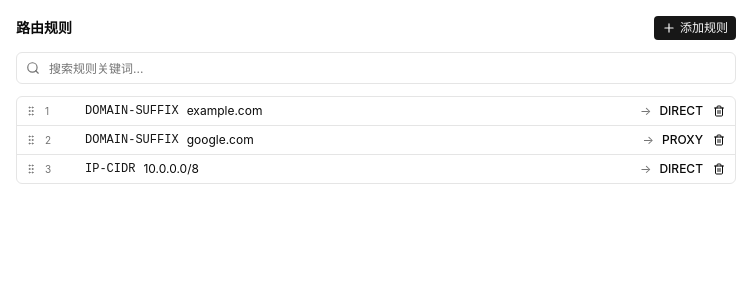
Test: RulesEditor component › should use the same divider frame for an expanded rule
Click the text "google.com".
click(220, 140)  # box [187,132,254,147]
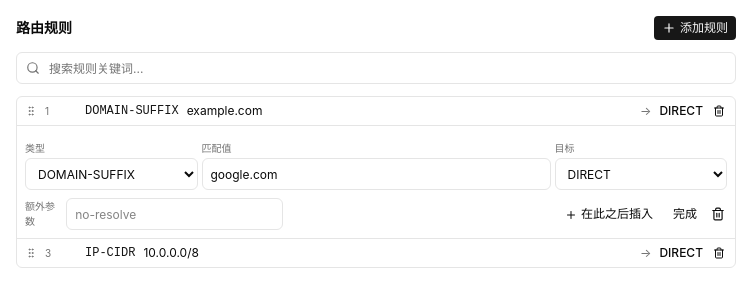
Expected: the element showing "类型 匹配值 目标 额外参数 在此之后插入 完成" is shown, [17,126,735,239]
